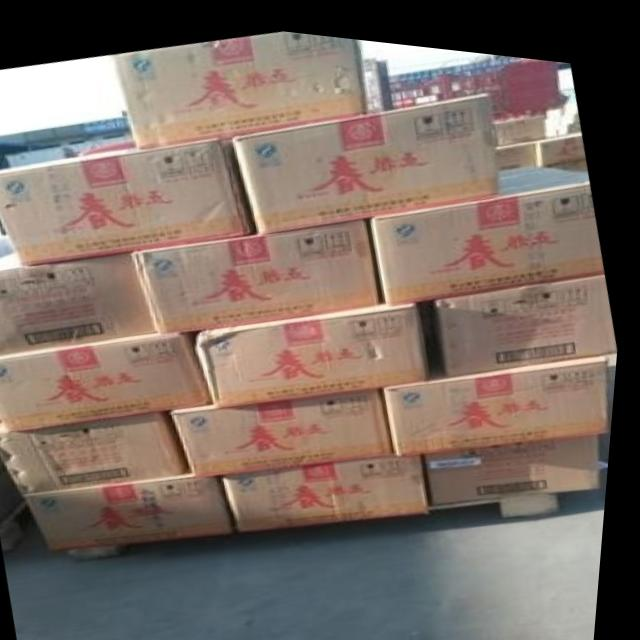box: (234, 81, 502, 230), (0, 131, 255, 265), (372, 152, 608, 296), (115, 25, 367, 146), (139, 209, 384, 331), (200, 290, 436, 404), (387, 340, 614, 448), (0, 328, 217, 431), (175, 376, 399, 472), (435, 258, 622, 366), (0, 247, 163, 356), (230, 442, 437, 526), (0, 406, 194, 494), (31, 468, 241, 549), (431, 420, 608, 494), (536, 119, 585, 152), (496, 104, 547, 134), (498, 128, 540, 162)
